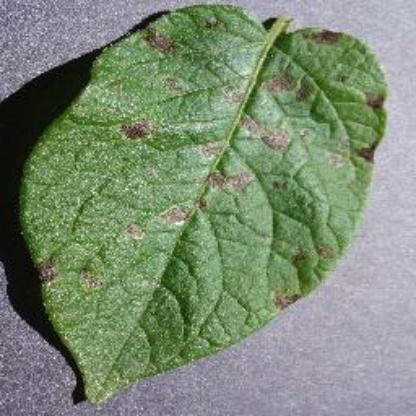Early-Blight: (15, 0, 408, 408)
